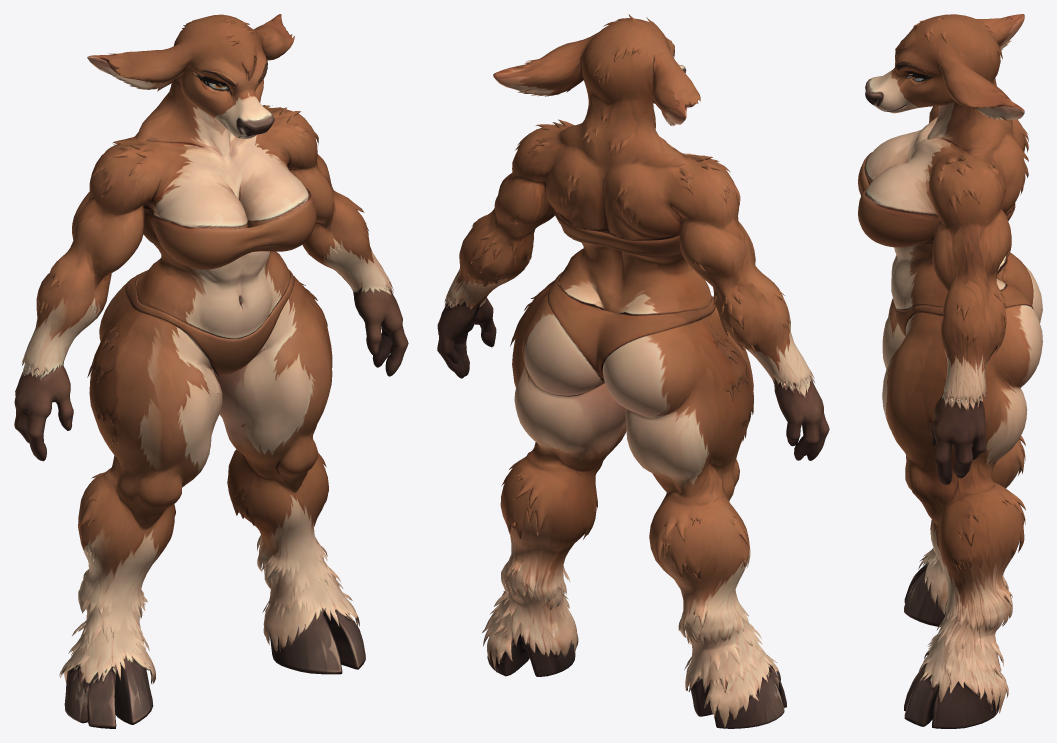
File: baine-body-hq.glb
The picture shows the model from 3 angles, left to right: view 1: azimuth 30°, elevation 25°; view 2: azimuth 150°, elevation 25°; view 3: azimuth 270°, elevation 25°; orthographic projection. The views are drawn at different scales.
Parts seen in each view (by area): view 1: tripo_308431ac_39c9_464c_84be_12faa8c3e0f0; view 2: tripo_308431ac_39c9_464c_84be_12faa8c3e0f0; view 3: tripo_308431ac_39c9_464c_84be_12faa8c3e0f0.
Boxes of the visible parts, left/top/right/bottom form: tripo_308431ac_39c9_464c_84be_12faa8c3e0f0: left=14, top=14, right=408, bottom=728; tripo_308431ac_39c9_464c_84be_12faa8c3e0f0: left=437, top=14, right=829, bottom=728; tripo_308431ac_39c9_464c_84be_12faa8c3e0f0: left=858, top=14, right=1042, bottom=728.
Size of the model in its own units: 1.39 by 2.3 by 0.5944.
Materials: 1 (1 with a texture image).
